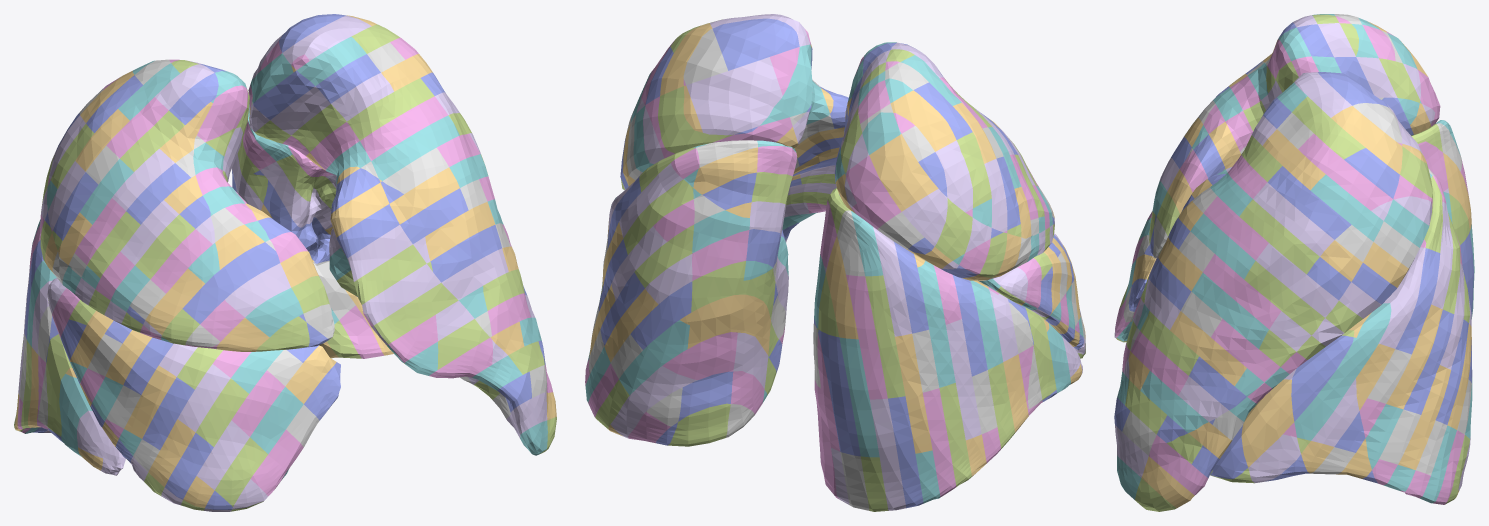
The model's file is lung-male-medium.glb.
3 renders of one model, left to right at view 1: azimuth 30°, elevation 25°; view 2: azimuth 150°, elevation 25°; view 3: azimuth 270°, elevation 25°, orthographic. The views are drawn at different scales.
Visible parts, largest first — view 1: VHM-LUL-13B1, VHM-LUL-12B1, VHM-LUL-11B1, VHM-LUL-14B1, VHM-LUL-10B1, VHM-LUL-8A2, VHM-LUL-9B1, VHM-RLL-2B4, VHM-LUL-4A2, VHM-LUL-3A2, VHM-LUL-5A2, VHM-LUL-9A2 (+134 smaller); view 2: VHM-LUL-1B4, VHM-LUL-1B3, VHM-LUL-1A3, VHM-LUL-2B5, VHM-LLL-3B4, VHM-LLL-9B1, VHM-LLL-4B3, VHM-LLL-6B2, VHM-RUL-1B4, VHM-LUL-1A4, VHM-LUL-2B2, VHM-LLL-7B2 (+111 smaller); view 3: VHM-LLL-14C6, VHM-LLL-14B5, VHM-LLL-13C7, VHM-LUL-4A5, VHM-LLL-13B6, VHM-LUL-5A5, VHM-LUL-3A5, VHM-LUL-2A4, VHM-LLL-12B6, VHM-LUL-6A5, VHM-LLL-12A4, VHM-LUL-7A5 (+141 smaller).
Boxes of the visible parts, left/top/right/bottom form: VHM-LUL-13B1: left=362, top=264, right=434, bottom=325; VHM-LUL-12B1: left=354, top=244, right=426, bottom=304; VHM-LUL-11B1: left=347, top=225, right=412, bottom=281; VHM-LUL-14B1: left=374, top=287, right=435, bottom=344; VHM-LUL-10B1: left=336, top=204, right=399, bottom=258; VHM-LUL-8A2: left=371, top=129, right=436, bottom=181; VHM-LUL-9B1: left=330, top=182, right=389, bottom=237; VHM-RLL-2B4: left=59, top=374, right=92, bottom=446; VHM-LUL-4A2: left=315, top=54, right=380, bottom=103; VHM-LUL-3A2: left=302, top=36, right=366, bottom=85; VHM-LUL-5A2: left=331, top=73, right=393, bottom=121; VHM-LUL-9A2: left=382, top=148, right=448, bottom=194; VHM-LUL-1B4: left=686, top=71, right=748, bottom=135; VHM-LUL-1B3: left=728, top=57, right=782, bottom=129; VHM-LUL-1A3: left=712, top=19, right=769, bottom=70; VHM-LUL-2B5: left=658, top=86, right=706, bottom=153; VHM-LLL-3B4: left=685, top=332, right=737, bottom=379; VHM-LLL-9B1: left=693, top=147, right=757, bottom=194; VHM-LLL-4B3: left=690, top=294, right=742, bottom=333; VHM-LLL-6B2: left=692, top=230, right=749, bottom=272; VHM-RUL-1B4: left=883, top=162, right=938, bottom=211; VHM-LUL-1A4: left=683, top=29, right=727, bottom=85; VHM-LUL-2B2: left=783, top=44, right=812, bottom=116; VHM-LLL-7B2: left=692, top=210, right=749, bottom=253; VHM-LLL-14C6: left=1242, top=379, right=1294, bottom=434; VHM-LLL-14B5: left=1292, top=335, right=1353, bottom=386; VHM-LLL-13C7: left=1248, top=434, right=1300, bottom=482; VHM-LUL-4A5: left=1326, top=160, right=1392, bottom=210; VHM-LLL-13B6: left=1294, top=386, right=1345, bottom=440; VHM-LUL-5A5: left=1310, top=174, right=1370, bottom=224; VHM-LUL-3A5: left=1344, top=148, right=1399, bottom=198; VHM-LUL-2A4: left=1331, top=106, right=1396, bottom=147; VHM-LLL-12B6: left=1311, top=392, right=1359, bottom=446; VHM-LUL-6A5: left=1296, top=190, right=1351, bottom=239; VHM-LLL-12A4: left=1379, top=294, right=1417, bottom=348; VHM-LUL-7A5: left=1282, top=208, right=1334, bottom=256.
Bounding box in the file's own units: 0.2594 × 0.2291 × 0.1897.
